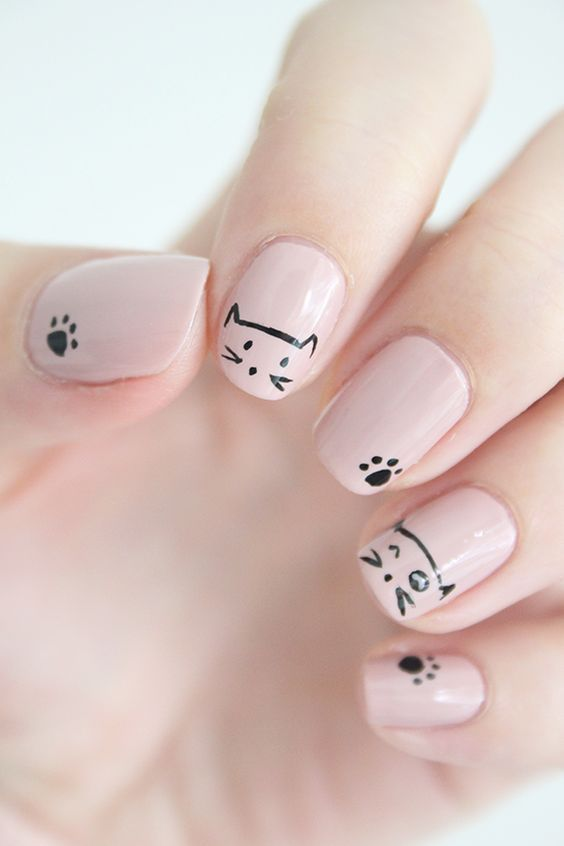nails: (302, 330, 464, 499), (21, 247, 212, 388), (351, 477, 518, 628), (210, 236, 351, 407), (348, 647, 492, 733)
